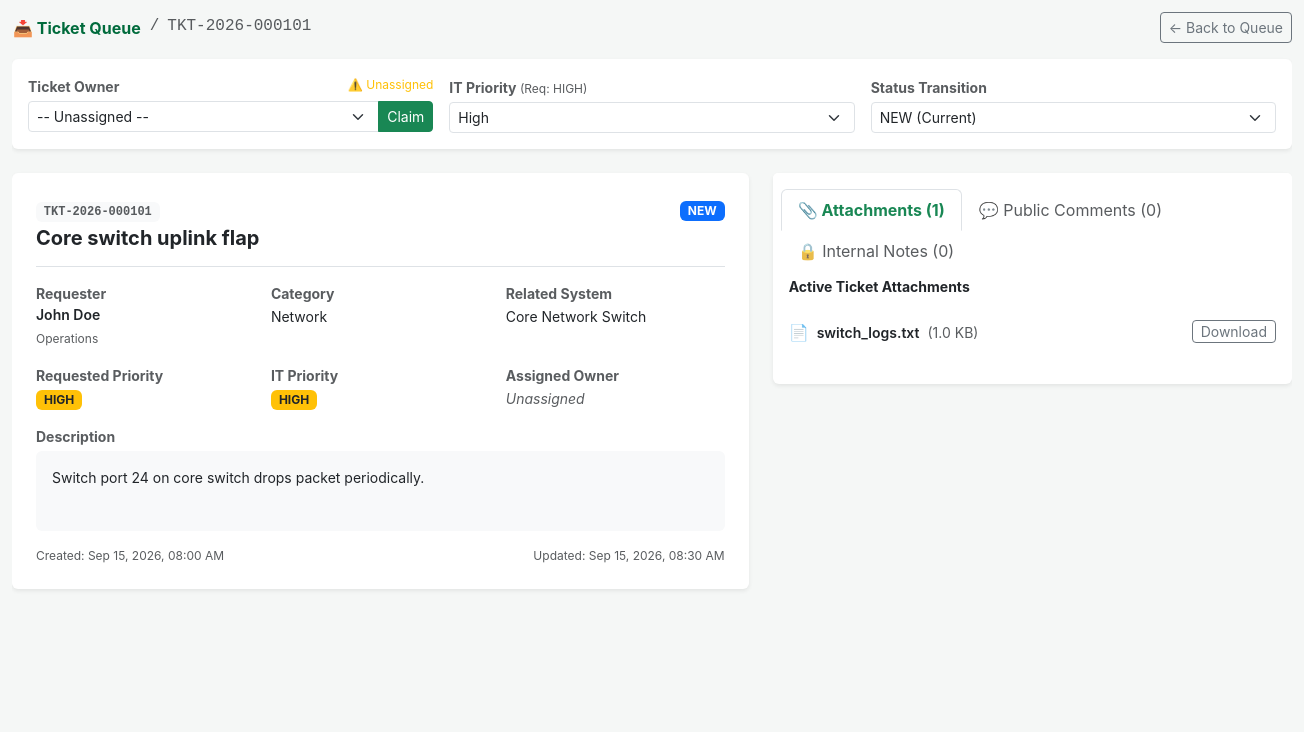
Test: UI-04: IT Staff Ticket Detail & Operational Controls Component Tests › claims unassigned ticket and updates owner badge and status
What coordinates should you click on to do the following:
click the button with test id "claim-ticket-btn"
I would click on:
 (406, 116)
Its box is x1=378 y1=101 x2=433 y2=132.
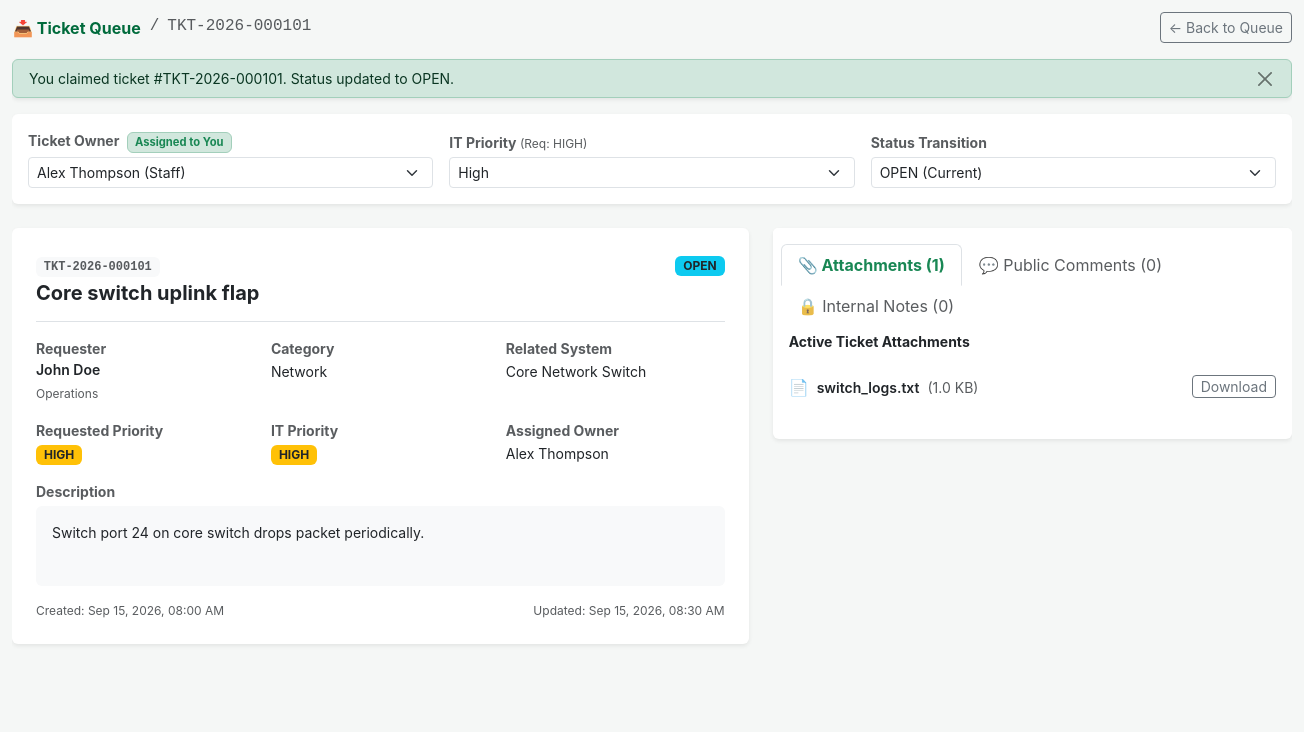
Check: the text "You claimed ticket #TKT-2026-000101. Status updated to OPEN." is shown, box x1=29 y1=68 x2=454 y2=89
